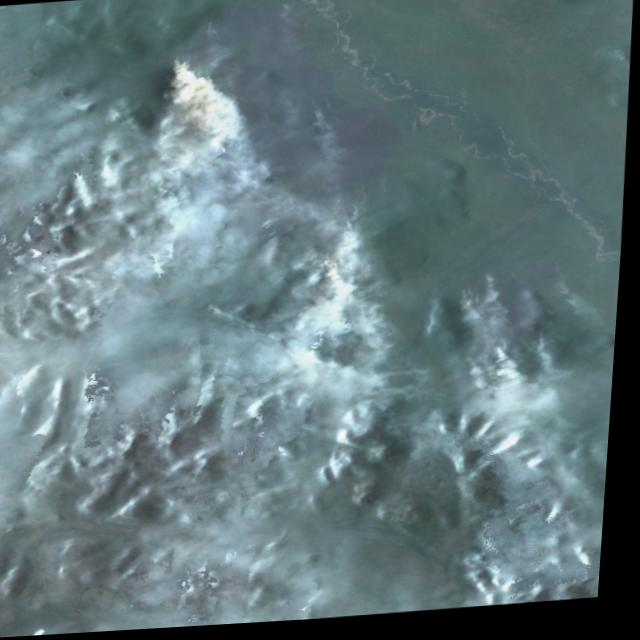fire: (160, 52, 217, 89), (452, 279, 516, 309), (318, 205, 378, 237), (282, 100, 345, 122), (479, 345, 532, 364), (550, 276, 580, 300)
